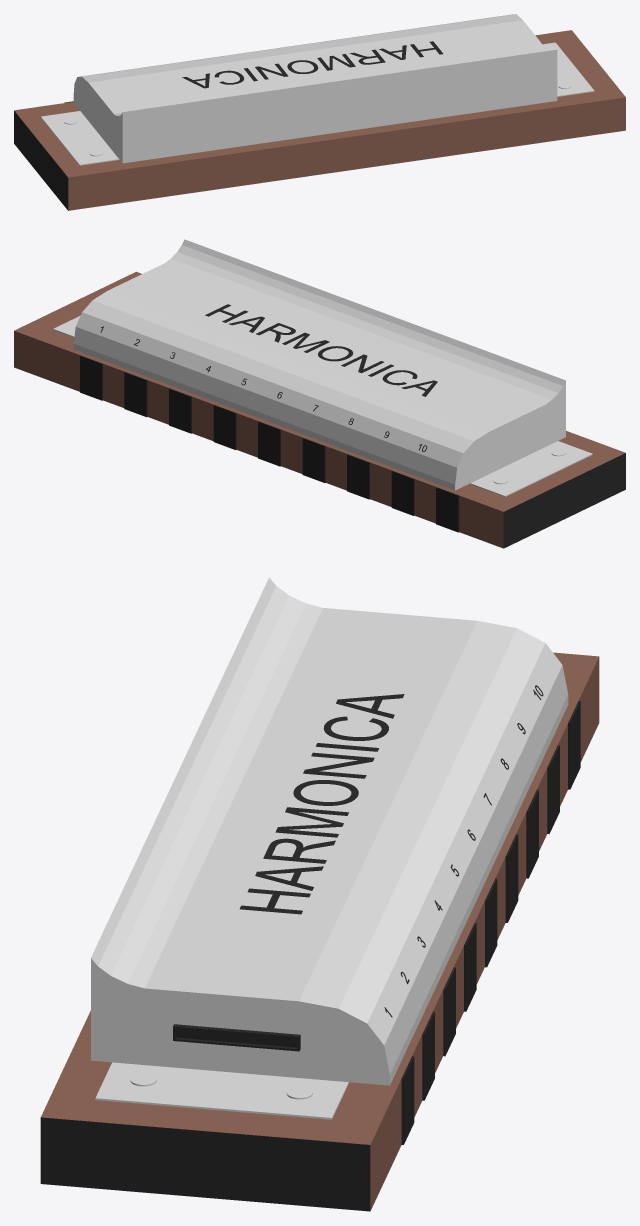
3 views of the same model, one above another, from view 1: azimuth 30°, elevation 25°; view 2: azimuth 150°, elevation 25°; view 3: azimuth 270°, elevation 25° (orthographic). The views are drawn at different scales.
Parts seen in each view (by area): view 1: Box005, Box006, Box007, Text015; view 2: Box005, Box006, Object002, Box007, Text015; view 3: Box005, Box006, Box007, Object002, Text015, Box008.
Boxes of the visible parts, box(x1,y1,x2,y2) form: Box005: box(73, 14, 557, 163); Box006: box(14, 30, 625, 210); Box007: box(41, 42, 594, 165); Text015: box(182, 41, 443, 88); Box005: box(73, 239, 565, 490); Box006: box(14, 271, 625, 548); Object002: box(80, 355, 459, 532); Box007: box(53, 315, 592, 496); Text015: box(205, 304, 437, 396); Box005: box(91, 577, 568, 1085); Box006: box(40, 652, 599, 1211); Box007: box(95, 1062, 349, 1119); Object002: box(401, 701, 580, 1144); Text015: box(239, 694, 404, 914); Box008: box(173, 1024, 300, 1051).
Bounding box in the file's own units: 175622 × 27138 × 80327.
